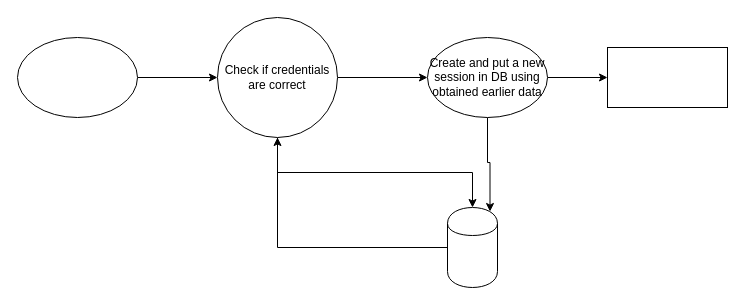
Image size: 745x305. Some labels were removed from this diagram. The shapes that lost their labels are listed below. From the top down, each one's centre as x and y in pixels, then its label:
the point at 77,77: \auth
the point at 667,77: Return session information (authentication token)
